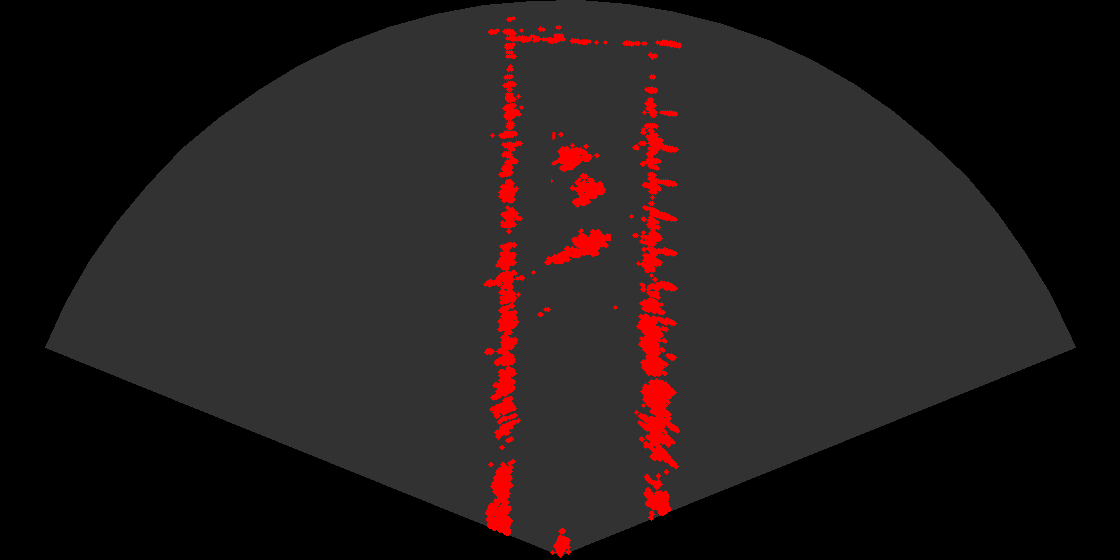cage: (551, 132, 614, 216)
frogman: (543, 222, 611, 269)
